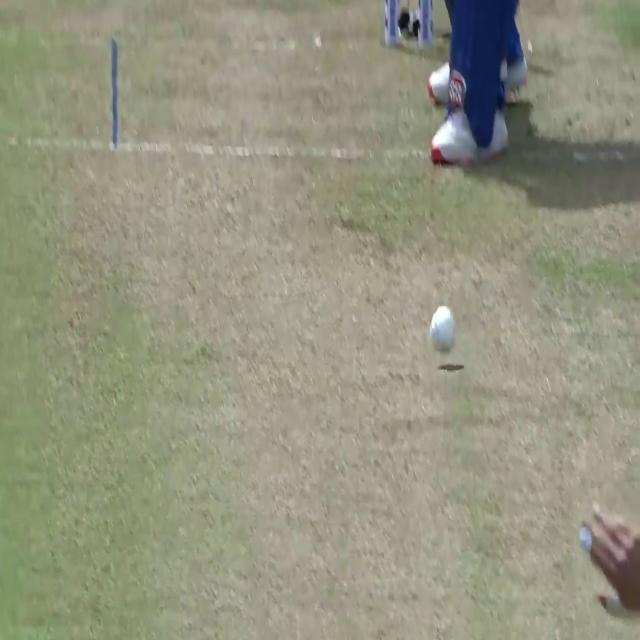ball: (430, 304, 456, 354)
